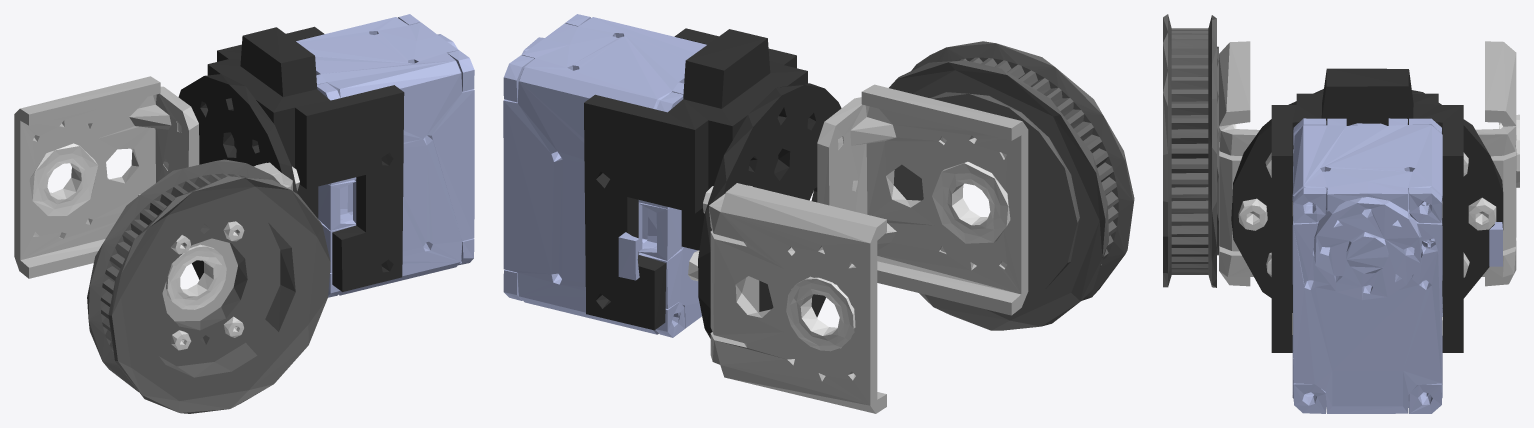
Rendered from tail_link.dae.
The picture shows the model from 3 angles, left to right: view 1: azimuth 30°, elevation 25°; view 2: azimuth 150°, elevation 25°; view 3: azimuth 270°, elevation 25°; orthographic projection. The views are drawn at different scales.
Visible parts, largest first — view 1: Shape_IndexedFaceSet.011; view 2: Shape_IndexedFaceSet.011; view 3: Shape_IndexedFaceSet.011.
Part boxes in pixels (x1=…): Shape_IndexedFaceSet.011: x1=14, y1=14, x2=474, y2=413; Shape_IndexedFaceSet.011: x1=503, y1=14, x2=1134, y2=413; Shape_IndexedFaceSet.011: x1=1163, y1=14, x2=1519, y2=413.
Bounding box in the file's own units: 0.1039 × 0.0679 × 0.0583.
